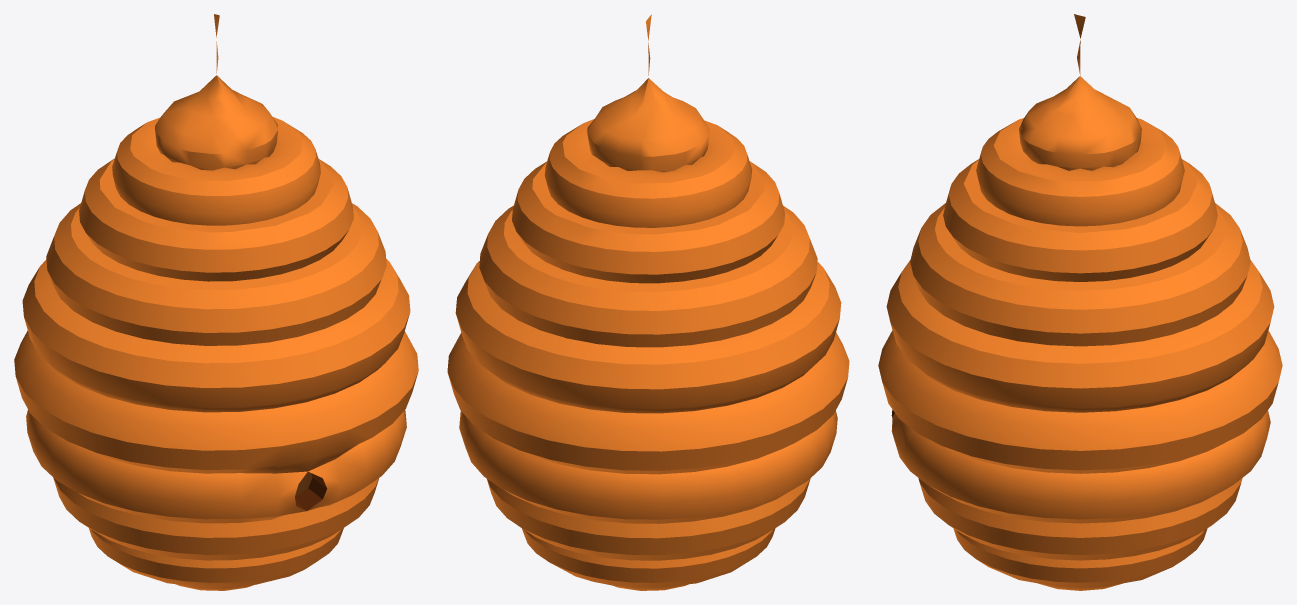
Rendered from Hive_Model.fbx.
3 views of the same model, side by side, from view 1: azimuth 30°, elevation 25°; view 2: azimuth 150°, elevation 25°; view 3: azimuth 270°, elevation 25° (orthographic).
Parts seen in each view (by area): view 1: Middle, Upper, Lower; view 2: Middle, Upper, Lower; view 3: Middle, Upper, Lower.
Part boxes in pixels (x1=…): Middle: x1=14, y1=259, x2=418, y2=523; Upper: x1=46, y1=14, x2=386, y2=345; Lower: x1=53, y1=471, x2=378, y2=590; Middle: x1=447, y1=261, x2=849, y2=523; Upper: x1=479, y1=14, x2=817, y2=347; Lower: x1=487, y1=478, x2=810, y2=590; Middle: x1=878, y1=260, x2=1282, y2=523; Upper: x1=910, y1=14, x2=1250, y2=346; Lower: x1=918, y1=478, x2=1242, y2=590.
Bounding box in the file's own units: 41.37 × 63.49 × 41.37.
Materials: 1 (1 with a texture image).
